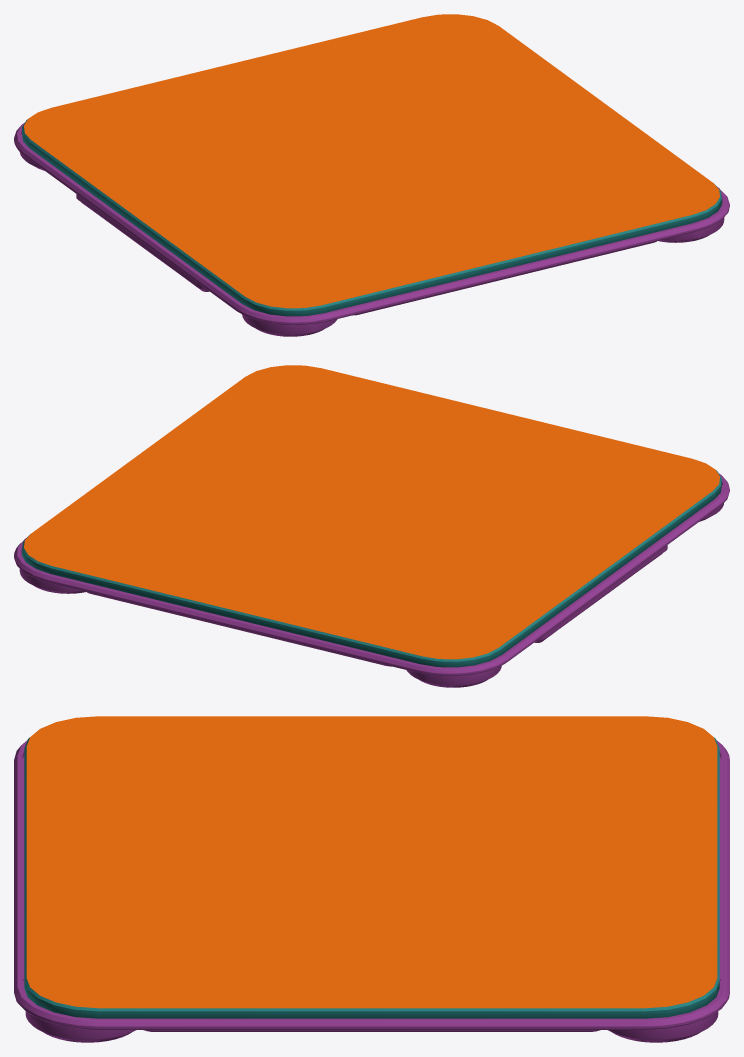
3 views of the same model, one above another, from view 1: azimuth 30°, elevation 25°; view 2: azimuth 150°, elevation 25°; view 3: azimuth 270°, elevation 25° (orthographic). The views are drawn at different scales.
Parts seen in each view (by area): view 1: Object010; view 2: Object010; view 3: Object010.
Part boxes in pixels (x1=…): Object010: x1=14, y1=14, x2=729, y2=336; Object010: x1=14, y1=365, x2=729, y2=687; Object010: x1=14, y1=716, x2=729, y2=1042.
Size of the model in its own units: 31.1 by 2.22 by 31.1.
